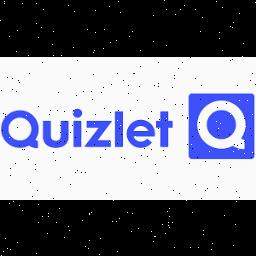q: (191, 96, 251, 152), (0, 108, 42, 154)
u: (42, 114, 70, 152)
